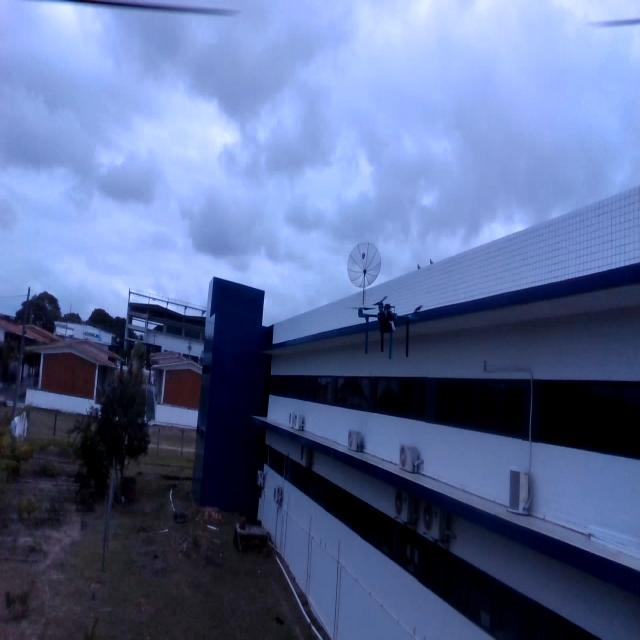-uav-: (348, 278, 424, 376)
